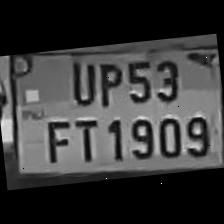0: (152, 111, 183, 160)
1: (98, 113, 128, 164)
3: (150, 51, 182, 105)
5: (120, 55, 154, 107)
9: (180, 110, 214, 159), (124, 113, 156, 162)
F: (40, 115, 76, 167)
P: (92, 56, 124, 110)
T: (70, 114, 104, 166)
U: (64, 54, 97, 108)
